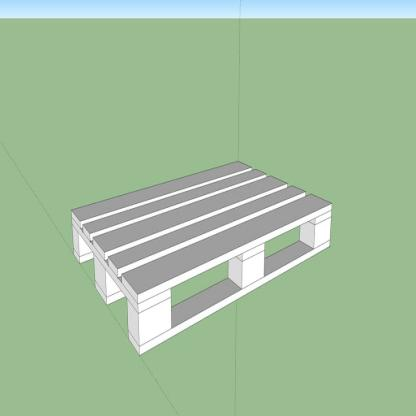BoxFace: (69, 158, 332, 362)
